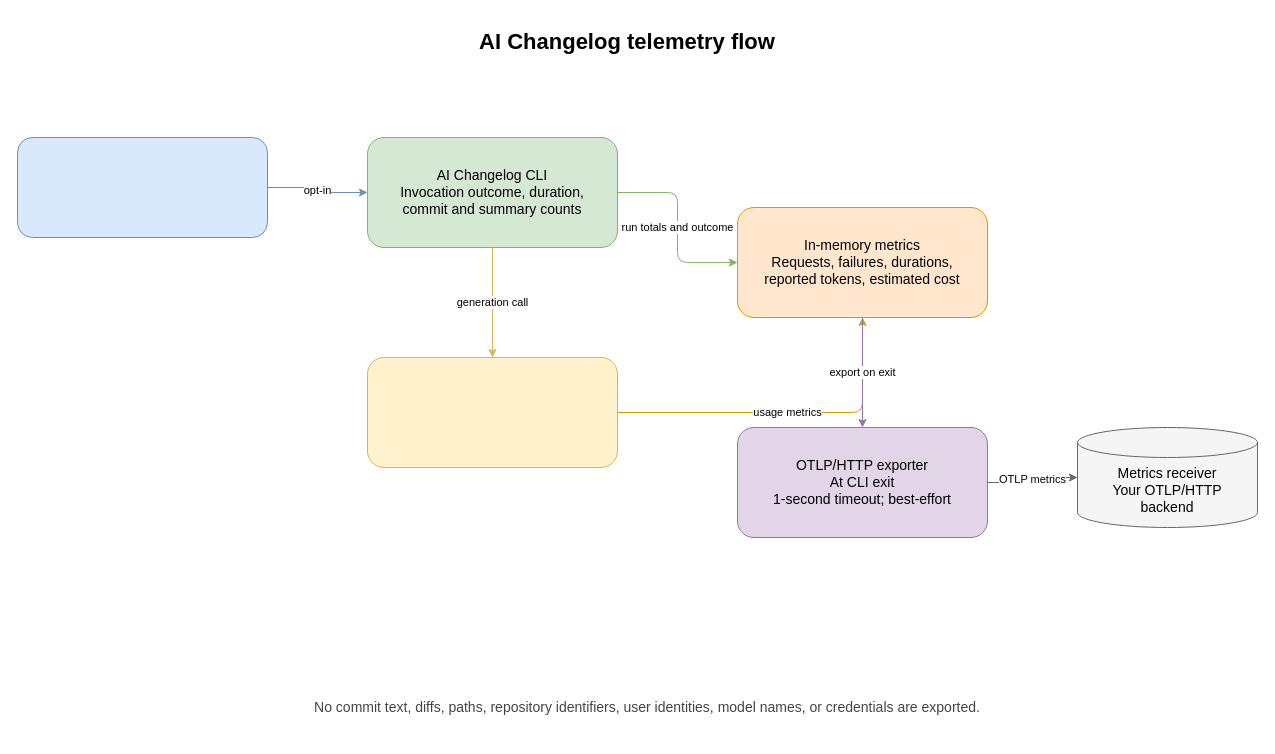
This 1275x754 diagram has some shape labels left out. Here are the shapes that lost their labels. From the top down, the centre of each, then its label:
(142,187): Opt-in endpoint CHANGELOG_ TELEMETRY_ENDPOINT
(492,412): AIProvider / LiteLLM Prompt and diff go to model Telemetry receives numbers only
